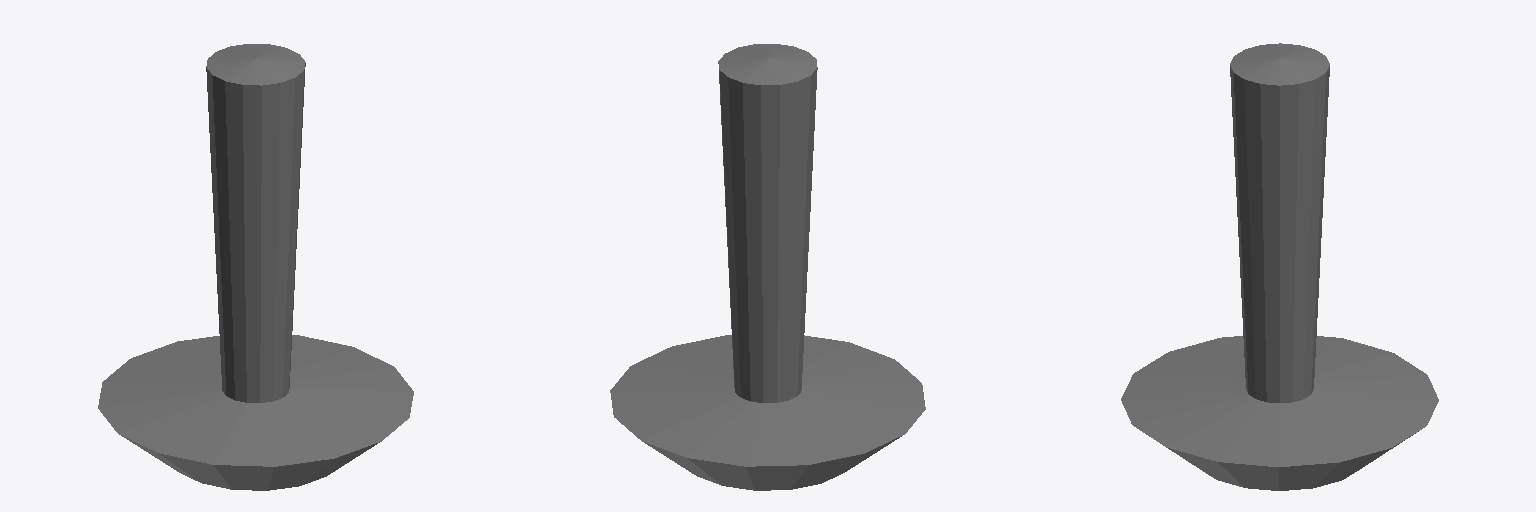
File: joystickpad2(F65).obj
3 views of the same model, side by side, from view 1: azimuth 30°, elevation 25°; view 2: azimuth 150°, elevation 25°; view 3: azimuth 270°, elevation 25° (orthographic).
Visible parts, largest first — view 1: Sphere.002; view 2: Sphere.002; view 3: Sphere.002.
Boxes of the visible parts, x1=… form: Sphere.002: x1=98, y1=44, x2=413, y2=490; Sphere.002: x1=610, y1=44, x2=925, y2=490; Sphere.002: x1=1121, y1=43, x2=1438, y2=490.
Size of the model in its own units: 0.4119 by 0.5636 by 0.4119.